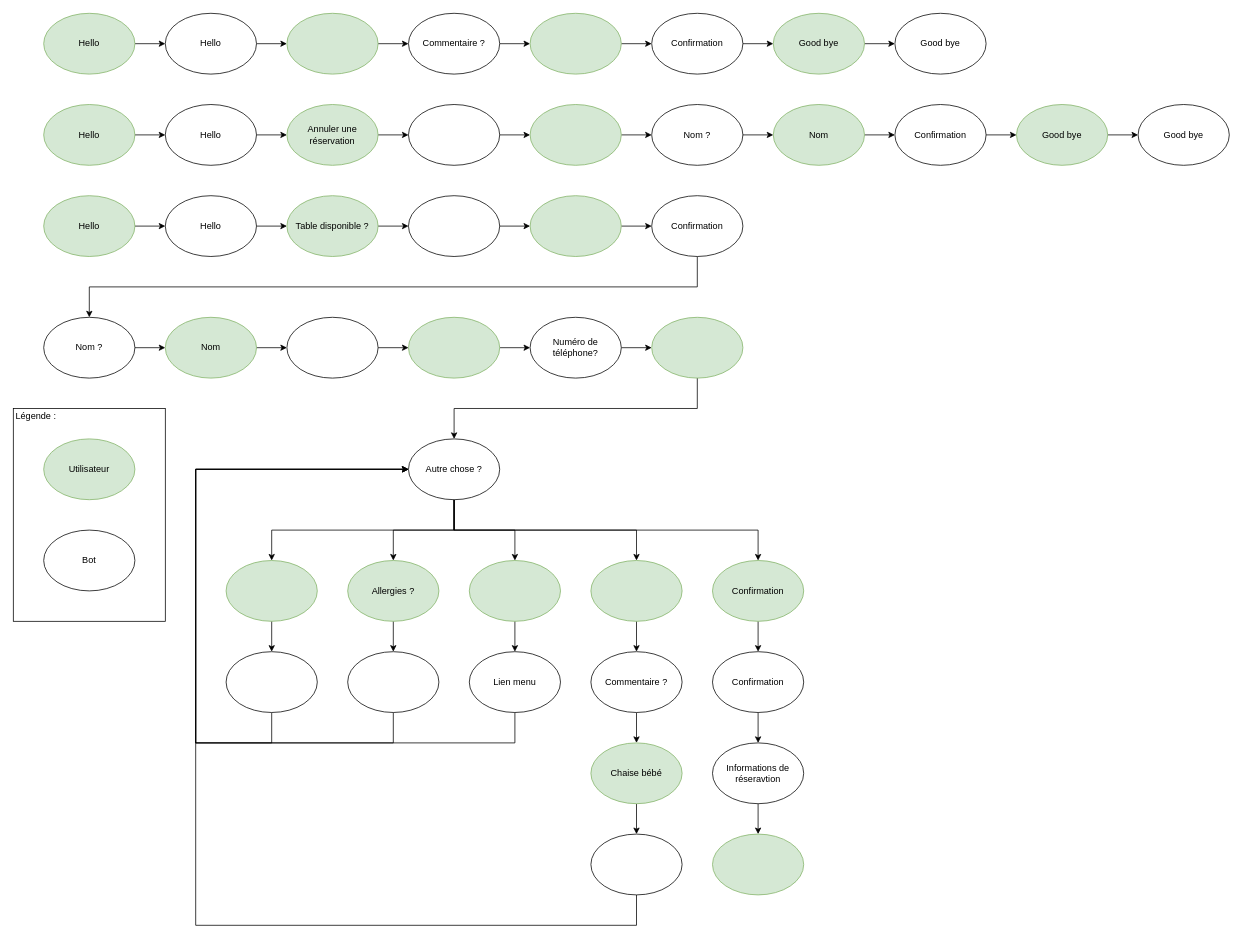
Some shapes in this 1243 by 945 pixel diagram are drawn without their labels. Here are the shapes that lost their labels. From the top down, the centre of each, then its label:
At pixel 332 43: "Modifier un commentaire".
At pixel 575 43: "Commentaire".
At pixel 454 134: "Quand ?".
At pixel 575 134: "Ce soir".
At pixel 454 225: "Table disponible".
At pixel 575 225: "Réservation ?".
At pixel 332 347: "Nombre de personne?".
At pixel 454 347: "Nombre de personne".
At pixel 697 347: "Numéro de téléphone".
At pixel 271 590: "Menu du jour ?".
At pixel 514 590: "Lien menu ?".
At pixel 636 590: "Ajouter un commentaire".
At pixel 271 681: "Menu du jour".
At pixel 393 681: "Allergies".
At pixel 636 864: "Commentaire ajouté".
At pixel 758 864: "Remerciements".
